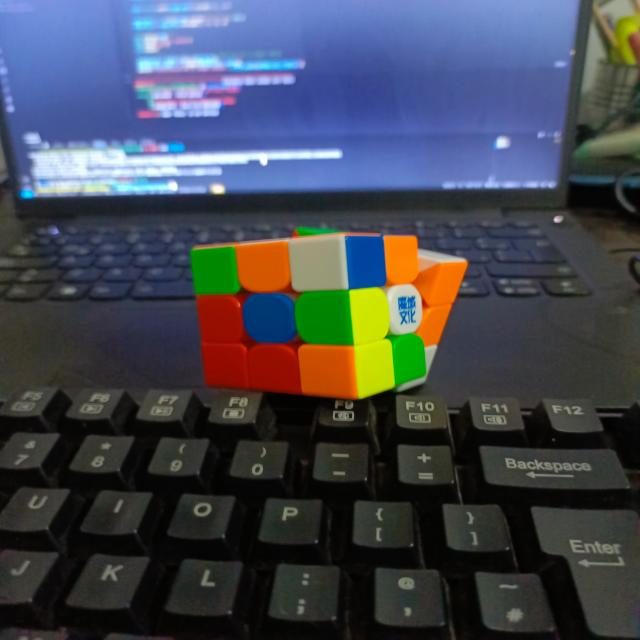rubik: (188, 229, 468, 399)
